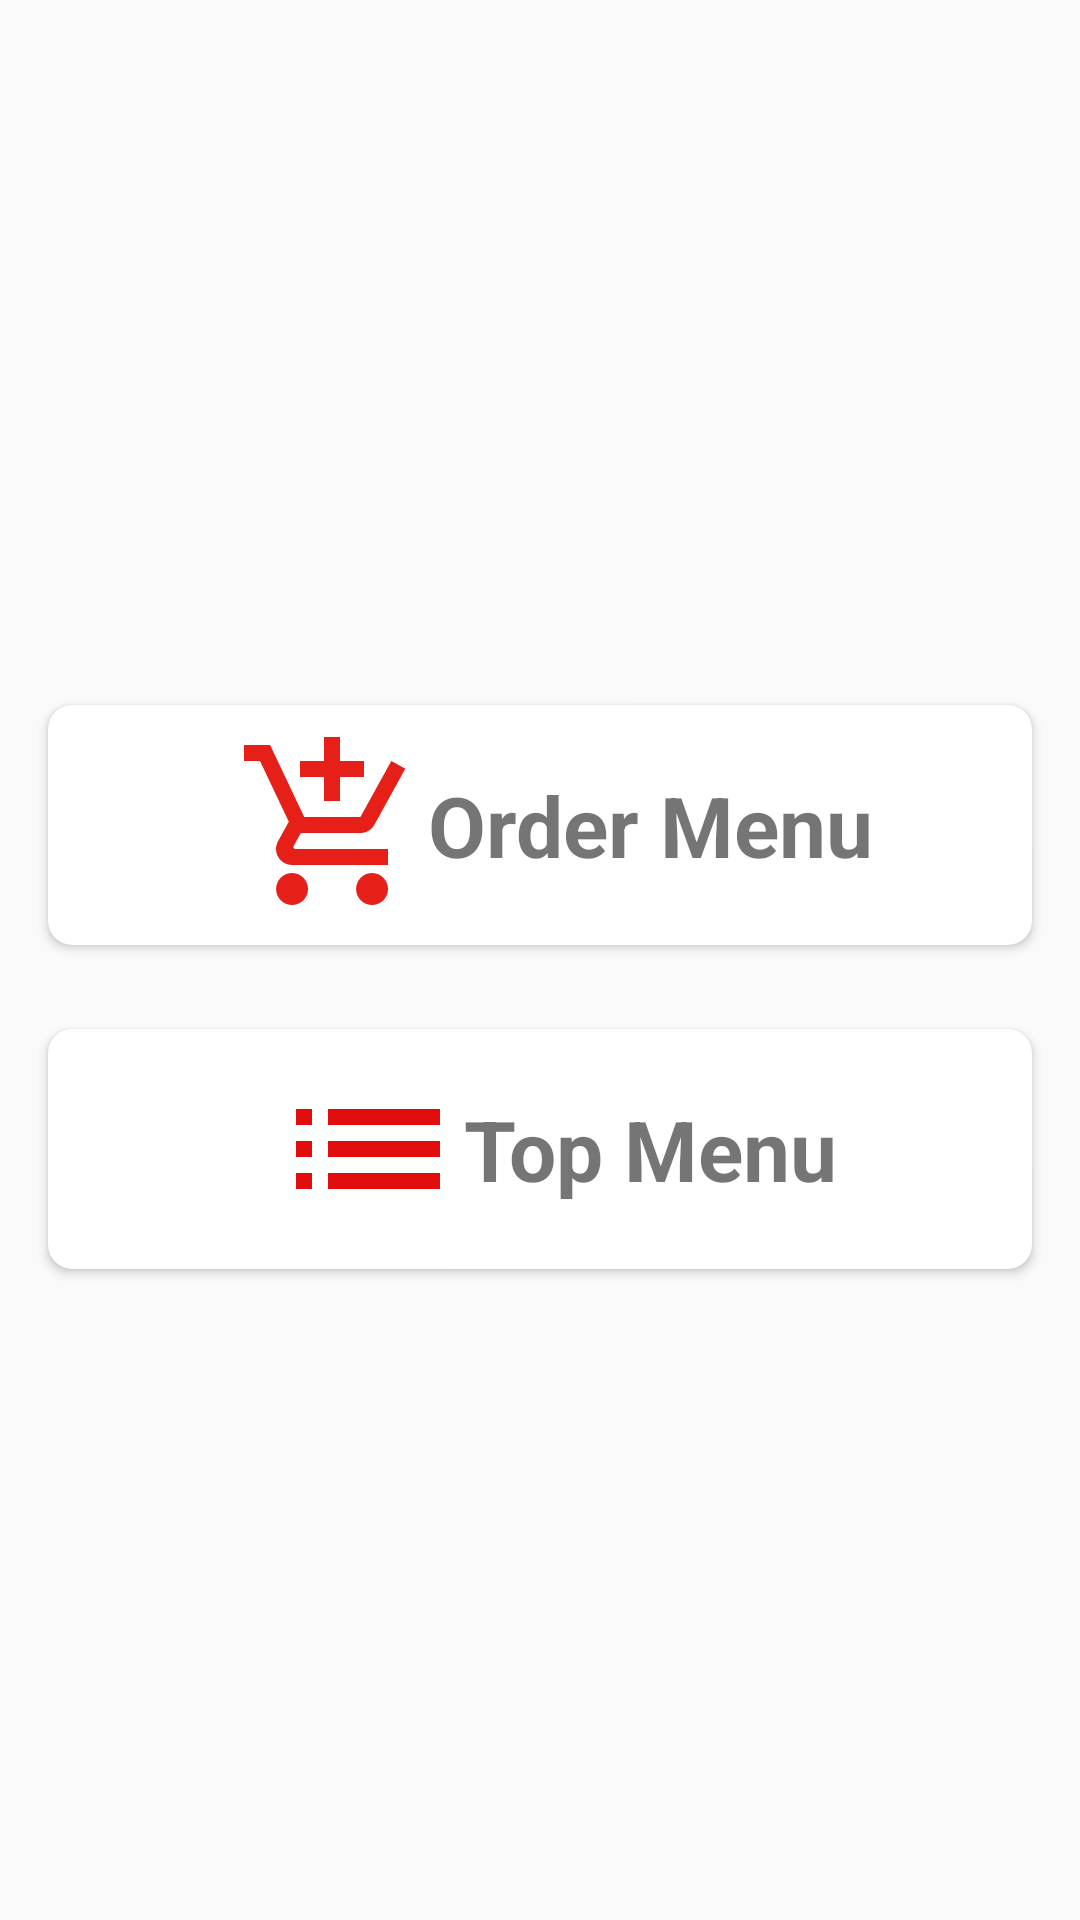

Screen size 1080 × 1920. Icon name, then its box in pixels as detection(x1, y1, x2, y2):
add shopping cart: detection(244, 737, 406, 905)
list: detection(296, 1109, 440, 1189)
